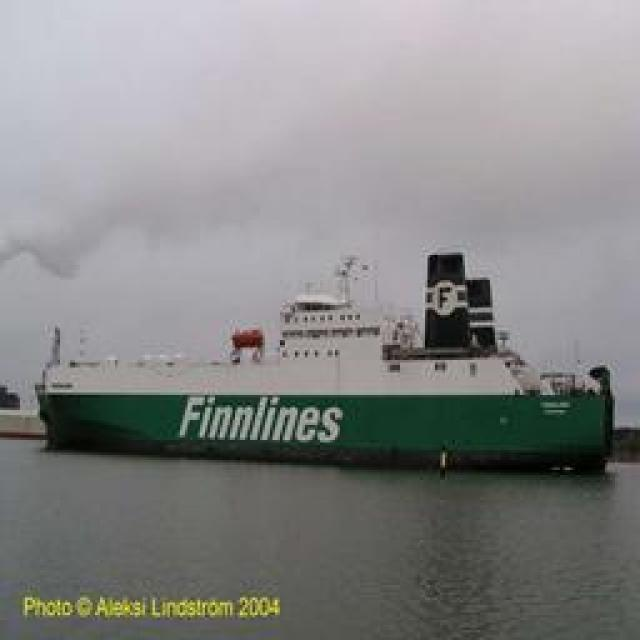Ship: (25, 245, 615, 470)
